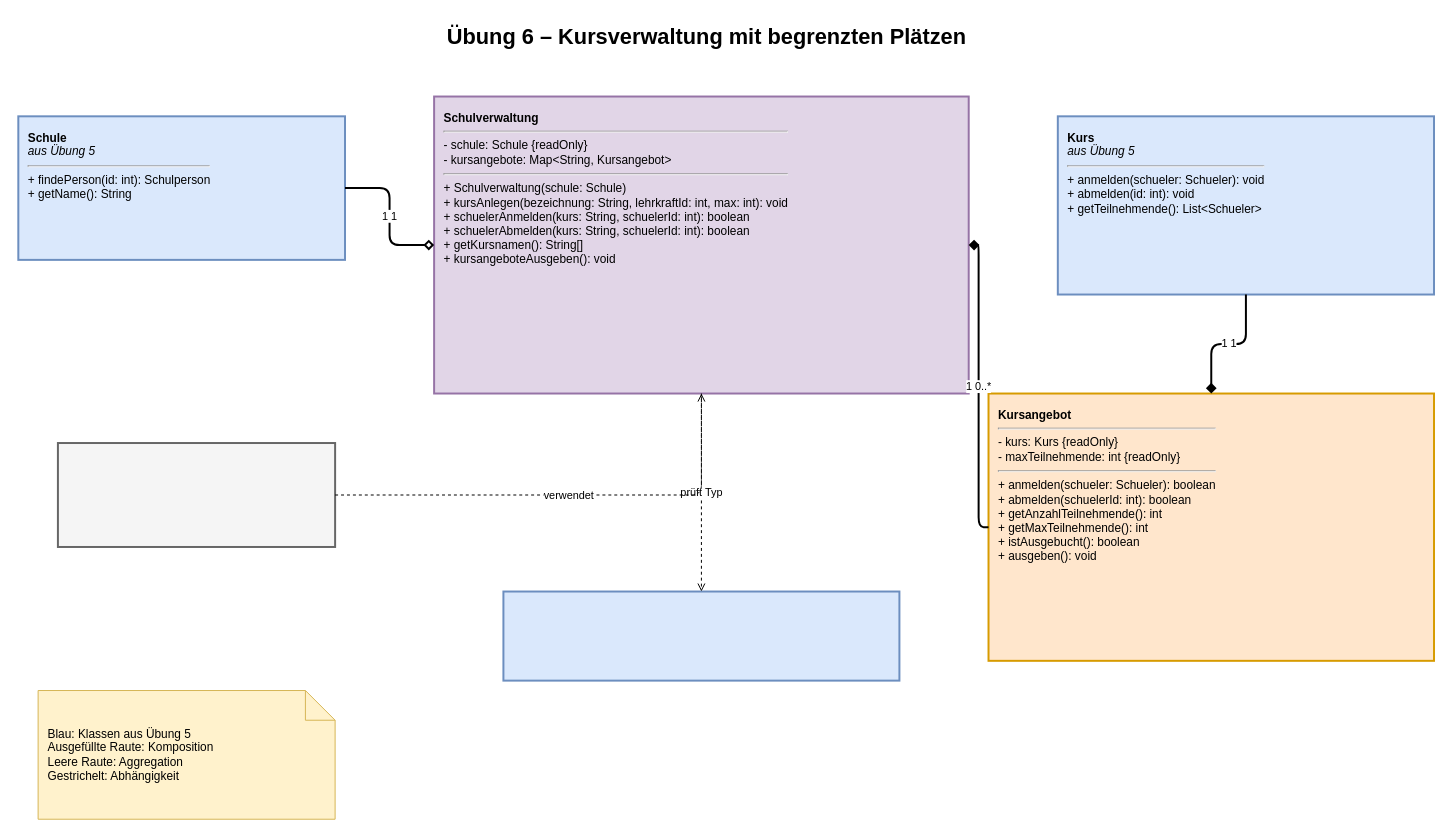
Image size: 1451x837. Some labels were removed from this diagram. The box of each missing label's shape, as (x1, y1, x2, y2) in pixels:
Schulperson / Lehrkraft / Schueler aus Übung 5: (502, 590, 900, 681)
Uebung06 + main(args: String[]): void: (56, 442, 336, 547)
